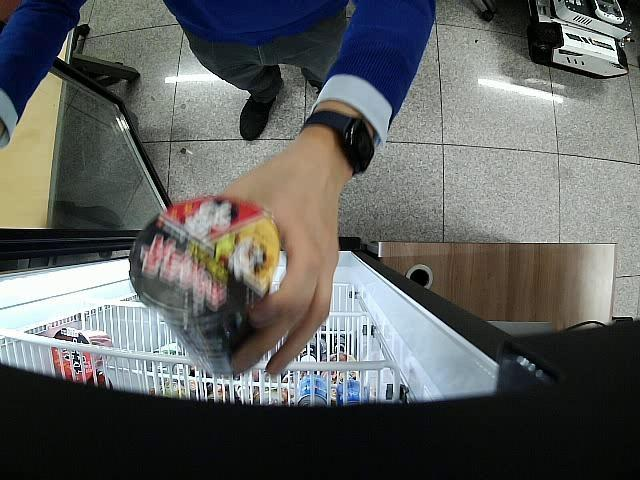08_buldak_S: (130, 196, 280, 372)
